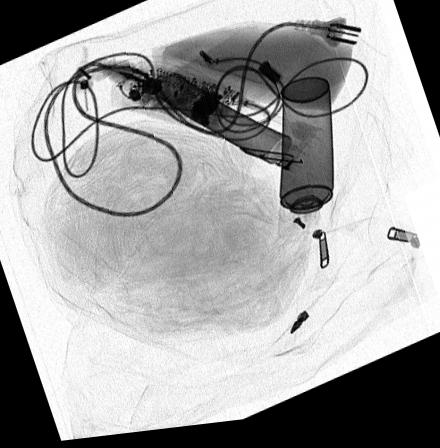Sprayer: (276, 84, 334, 248)
